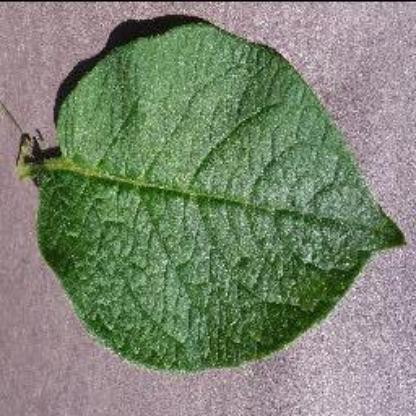Healthy-plant: (20, 21, 402, 370)
